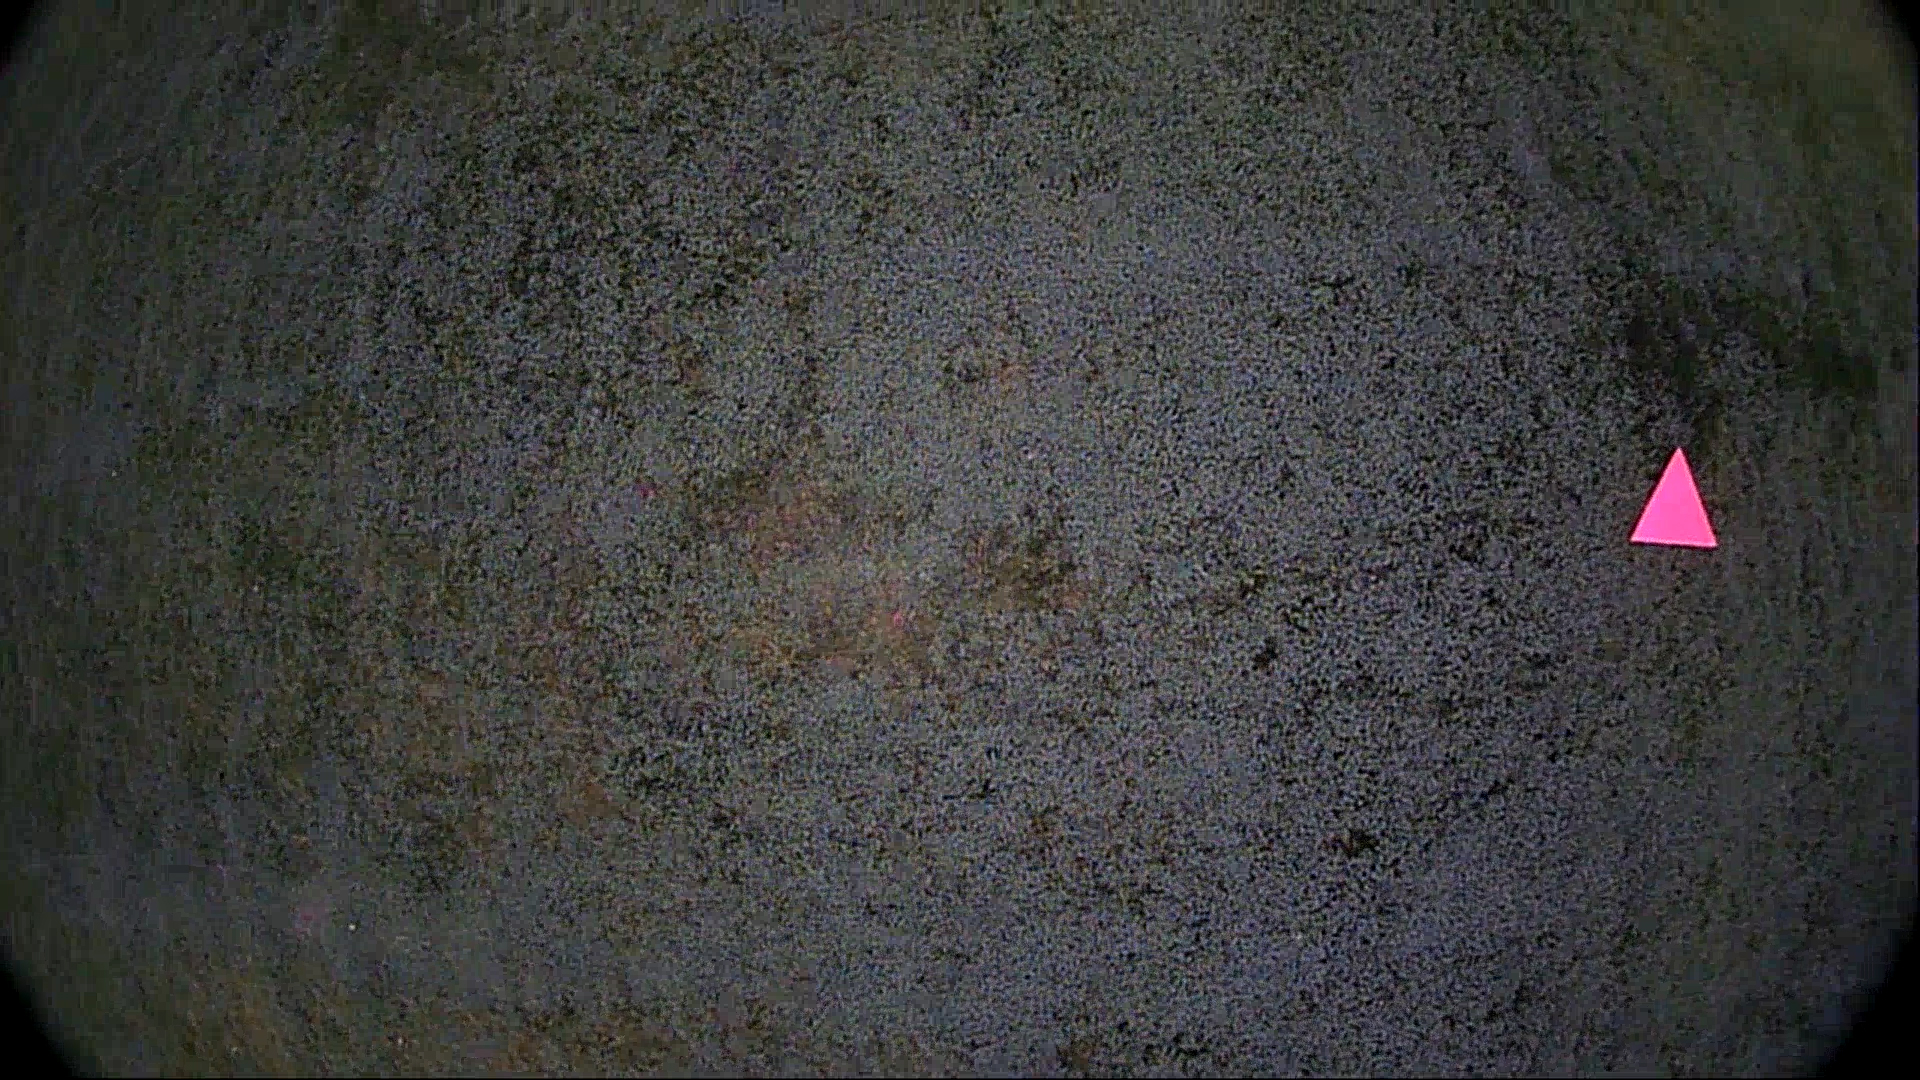triangle: (1625, 440, 1724, 555)
